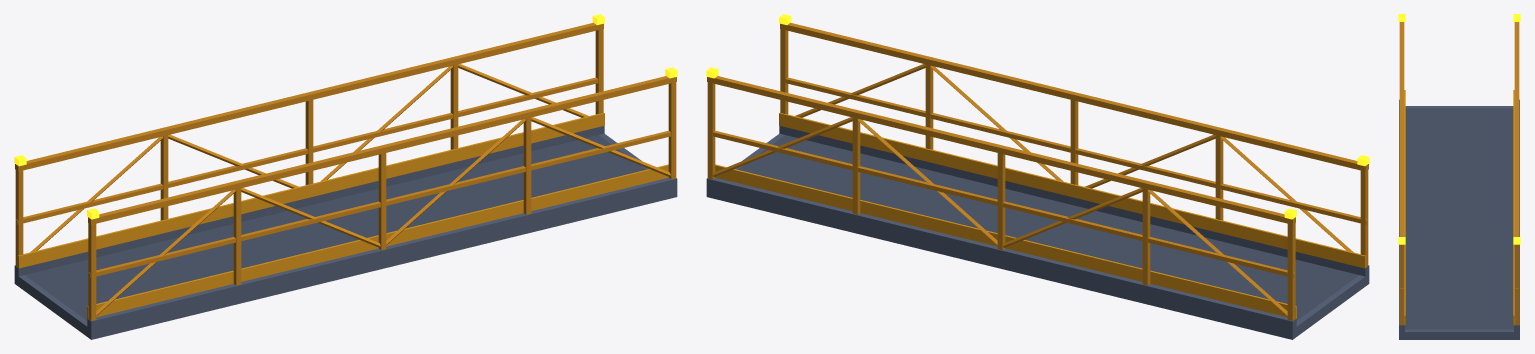
The model's file is port_lashing_platform.glb.
The picture shows the model from 3 angles, left to right: view 1: azimuth 30°, elevation 25°; view 2: azimuth 150°, elevation 25°; view 3: azimuth 270°, elevation 25°; orthographic projection. The views are drawn at different scales.
Parts seen in each view (by area): view 1: railing, deck, frame, toe_board, marker_light; view 2: railing, deck, frame, toe_board, marker_light; view 3: deck, railing, frame, toe_board, marker_light.
Boxes of the visible parts, bbox=[...] form: railing: bbox=[15, 22, 676, 320]; deck: bbox=[25, 135, 645, 320]; frame: bbox=[14, 125, 677, 339]; toe_board: bbox=[17, 113, 668, 319]; marker_light: bbox=[14, 14, 677, 219]; railing: bbox=[707, 22, 1368, 320]; deck: bbox=[738, 135, 1358, 320]; frame: bbox=[706, 125, 1369, 339]; toe_board: bbox=[715, 113, 1366, 319]; marker_light: bbox=[706, 14, 1369, 219]; deck: bbox=[1405, 108, 1513, 329]; railing: bbox=[1399, 22, 1519, 325]; frame: bbox=[1399, 99, 1519, 339]; toe_board: bbox=[1403, 90, 1515, 325]; marker_light: bbox=[1398, 14, 1520, 244].
Size of the model in its own units: 6 by 1.24 by 1.37.
